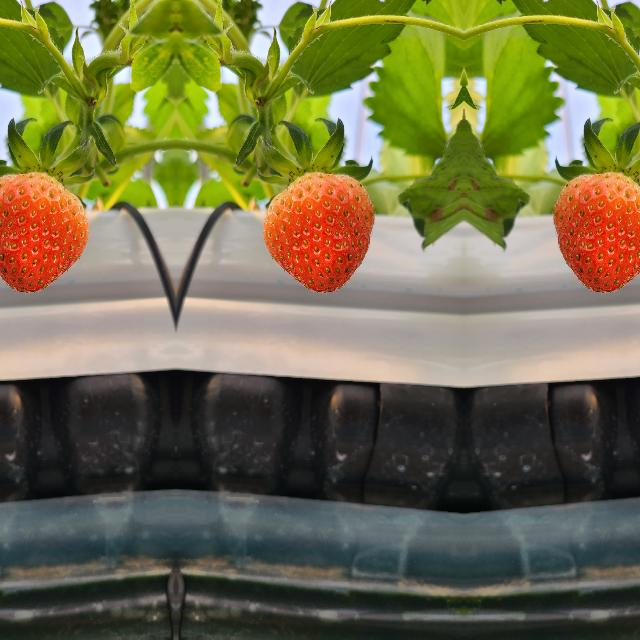Health_100: (262, 172, 374, 294), (551, 171, 640, 294), (0, 171, 88, 294)
